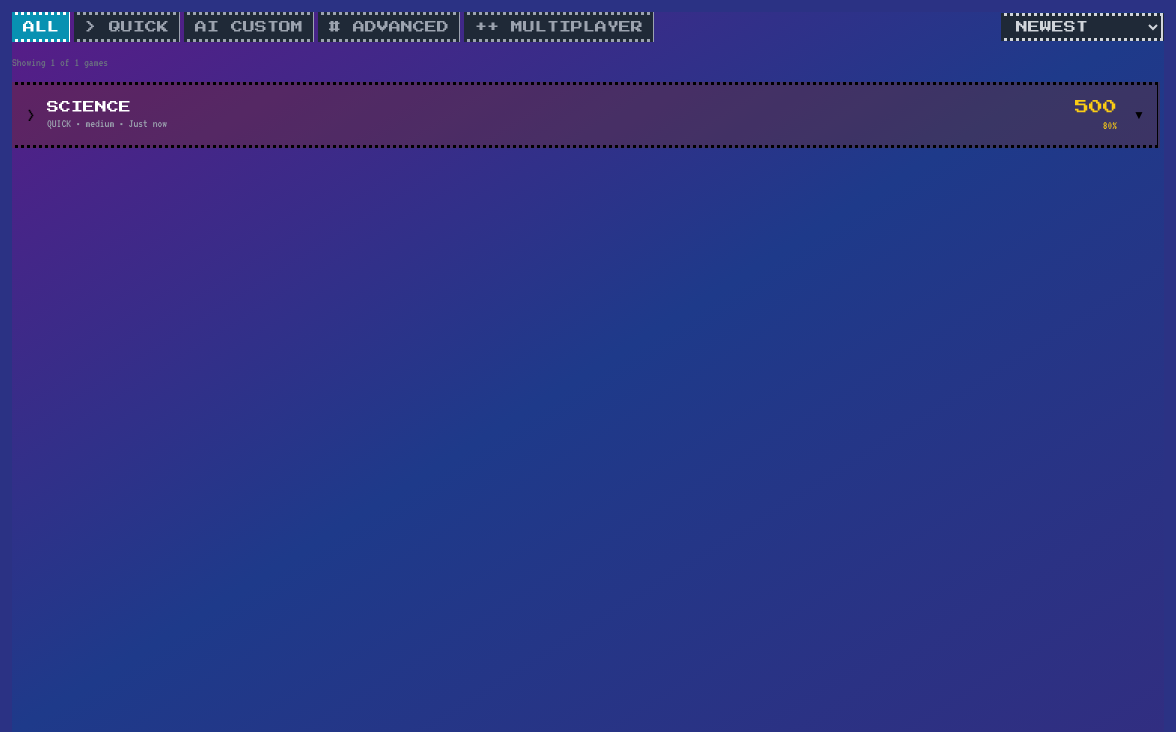
Test case: GameHistoryList › with entries › expands details on click
Click the button with aria-label "game details": click(89, 107) top-left (15, 85), bottom-right (1157, 145)
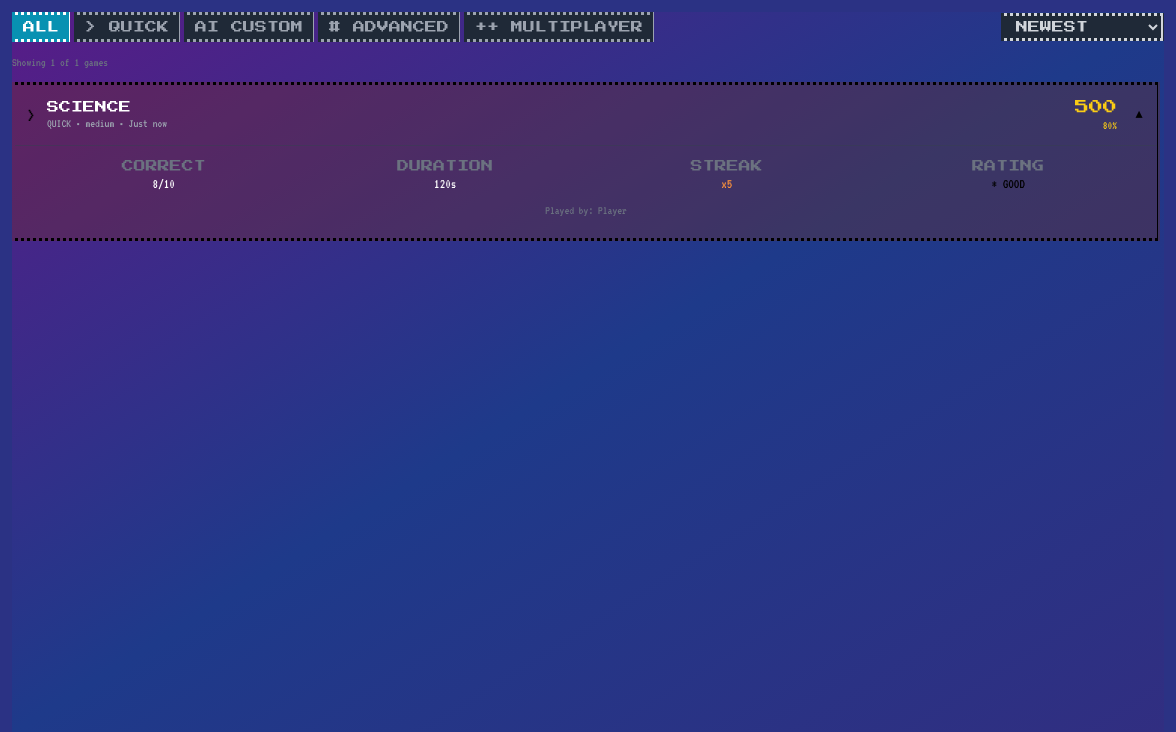
Now the text "x5" is shown, box top-left (721, 177), bottom-right (732, 191)
